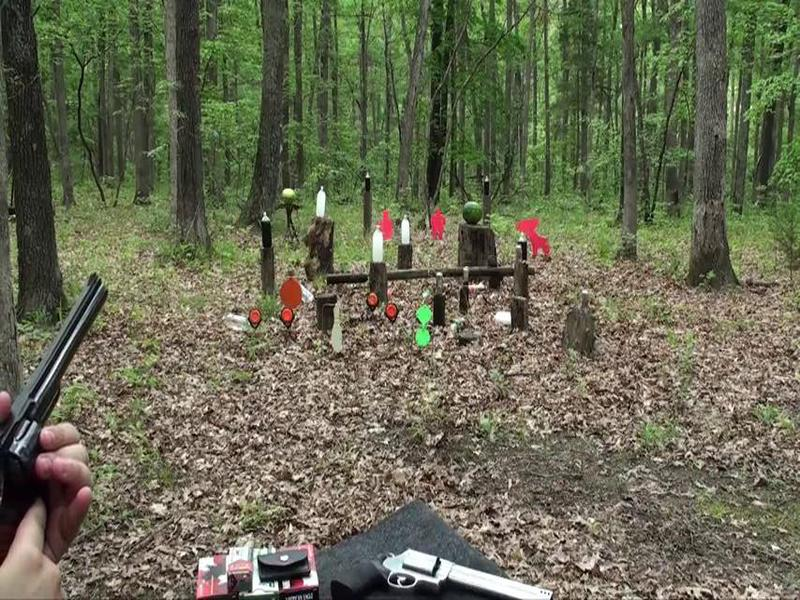Revolver: (1, 272, 106, 530)
